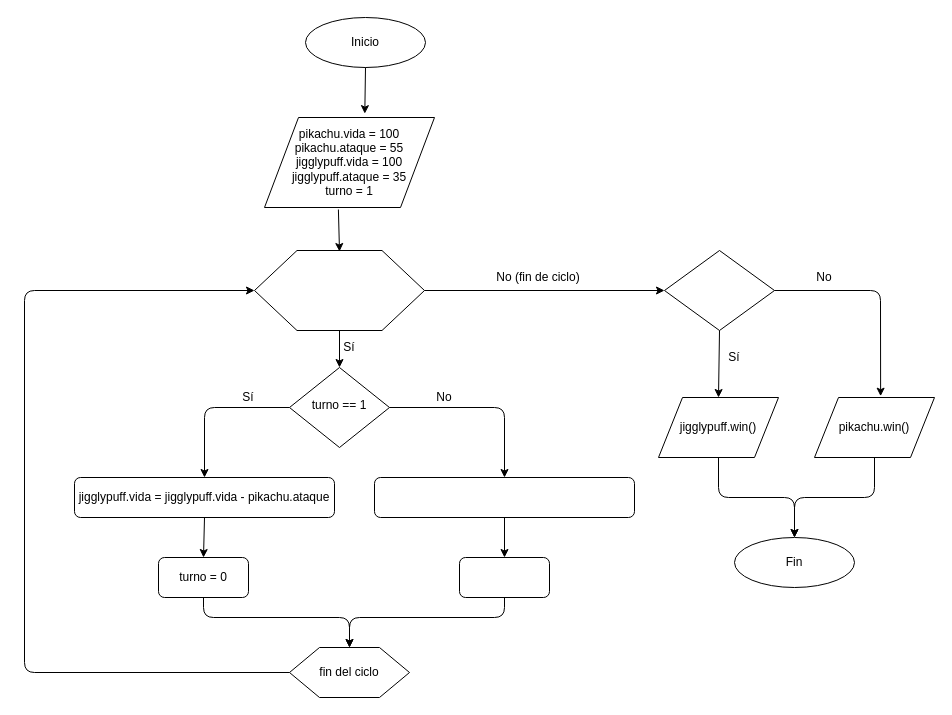
This 952x715 diagram has some shape labels left out. The shapes that lost their labels are listed below. From the top down, each one's box as (x1, y1, x2, y2) in pixels, then its label:
(254, 250, 424, 330): pikachu.vida > 0 and jigglypuff.vida > 0
(664, 250, 774, 330): pikachu.vida <= 0
(374, 476, 634, 518): pikachu.vida = pikachu.vida - jigglypuff.ataque
(458, 556, 550, 598): turno = 1
